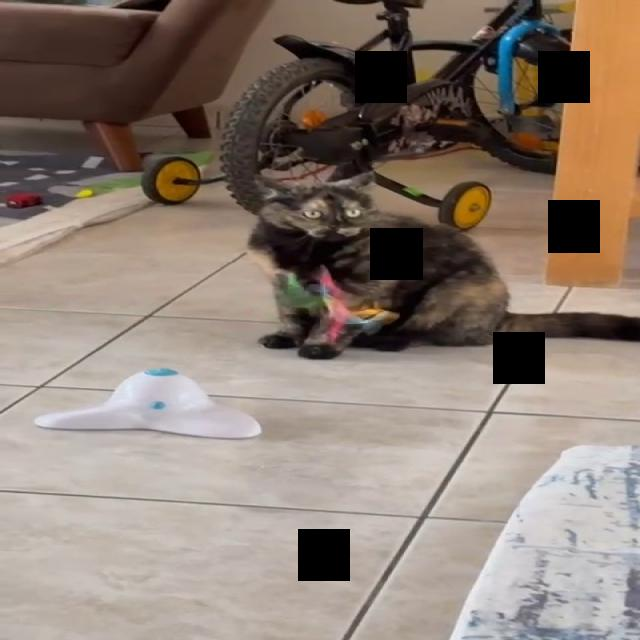authorized: (244, 172, 639, 358)
